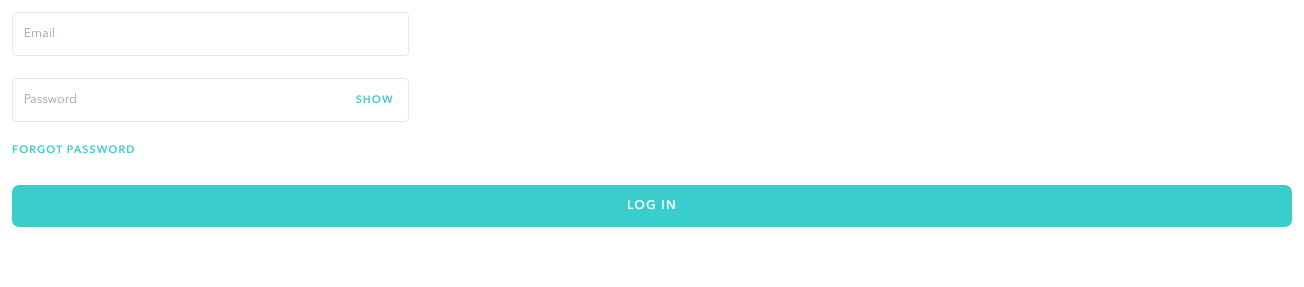
it: LoginForm › shows validation error messages for invalid input
The image size is (1304, 287).
Click the button "Log In": [652, 206] box [12,185,1292,228]
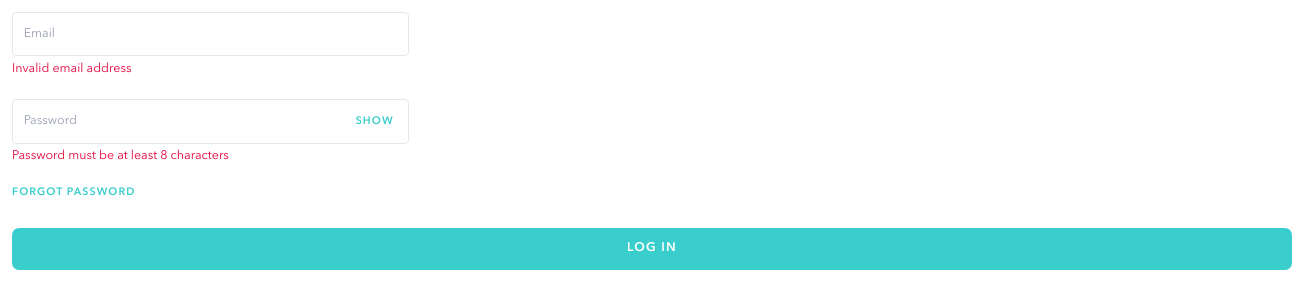
Expected: the text "Invalid email address" is shown, [12,63,132,75]
Expected: the text "Password must be at least 8 characters" is shown, [12,150,229,162]
